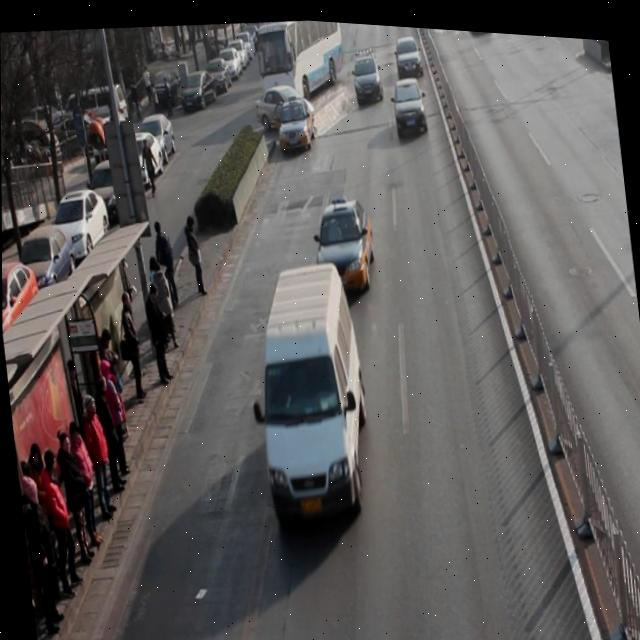car: (309, 190, 378, 291), (252, 76, 317, 133), (390, 69, 430, 135), (274, 91, 317, 151), (351, 47, 384, 102), (393, 27, 424, 79)
truck: (243, 251, 379, 530)
van: (252, 13, 348, 105)
